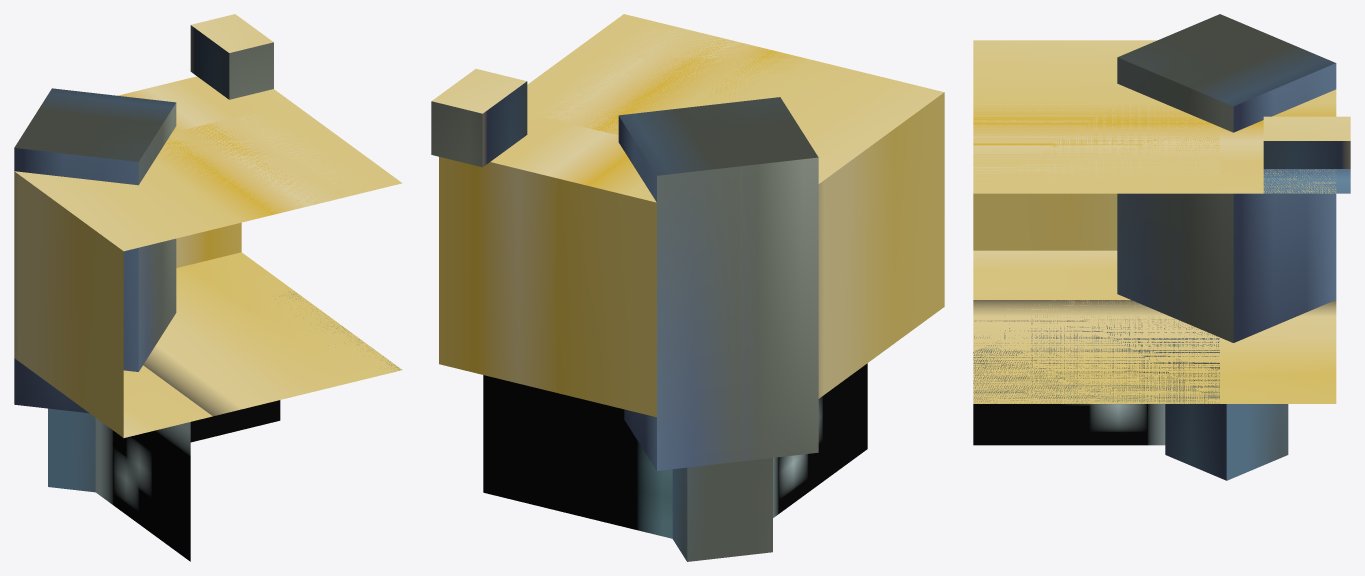
3 views of the same model, side by side, from view 1: azimuth 30°, elevation 25°; view 2: azimuth 150°, elevation 25°; view 3: azimuth 270°, elevation 25° (orthographic). The views are drawn at different scales.
Parts seen in each view (by area): view 1: frame; view 2: frame; view 3: frame.
Boxes of the visible parts, left/top/right/bottom form: frame: left=14, top=14, right=402, bottom=561; frame: left=431, top=14, right=944, bottom=561; frame: left=973, top=14, right=1350, bottom=480.
Bounding box in the file's own units: 0.7812 × 1 × 0.8125.
